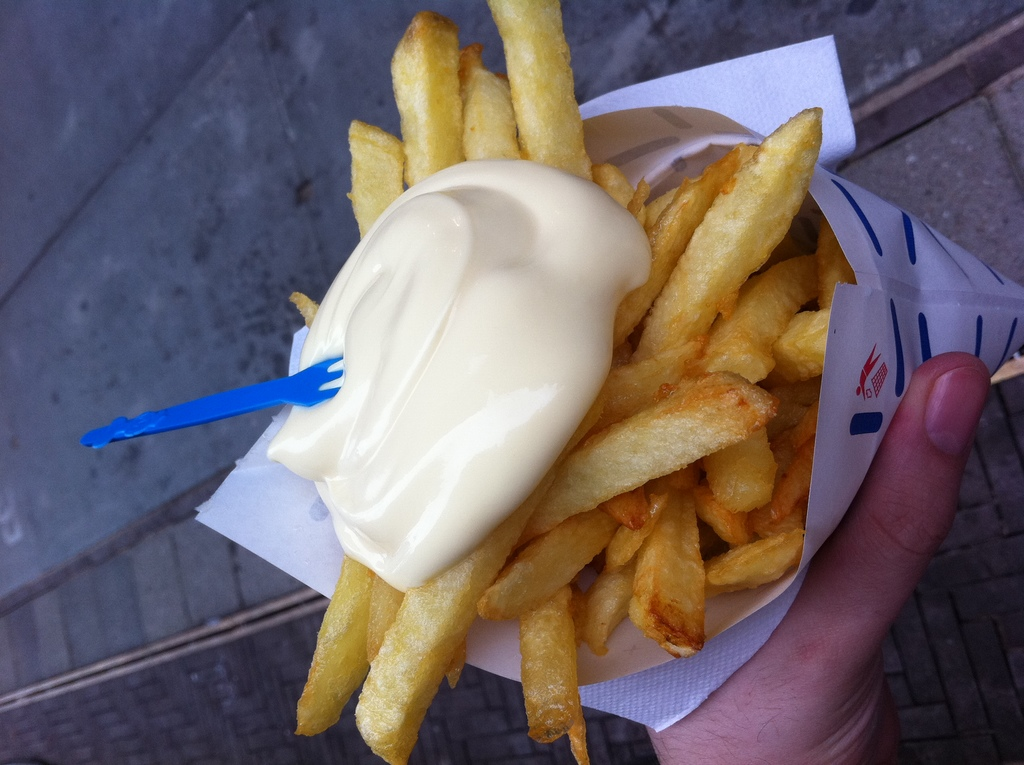French fries: (286, 0, 860, 764)
